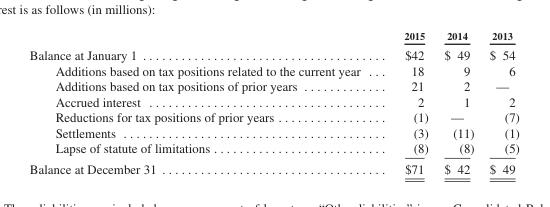table: (28, 29, 518, 175)
table column: (28, 29, 381, 175), (381, 29, 435, 175), (435, 29, 481, 175), (481, 29, 518, 175)
table column header: (28, 29, 518, 44)
table row: (28, 44, 518, 62), (28, 140, 518, 158), (28, 158, 518, 175), (28, 62, 518, 78), (28, 93, 518, 109), (28, 124, 518, 140), (28, 29, 518, 44), (28, 78, 518, 93), (28, 109, 518, 124)
